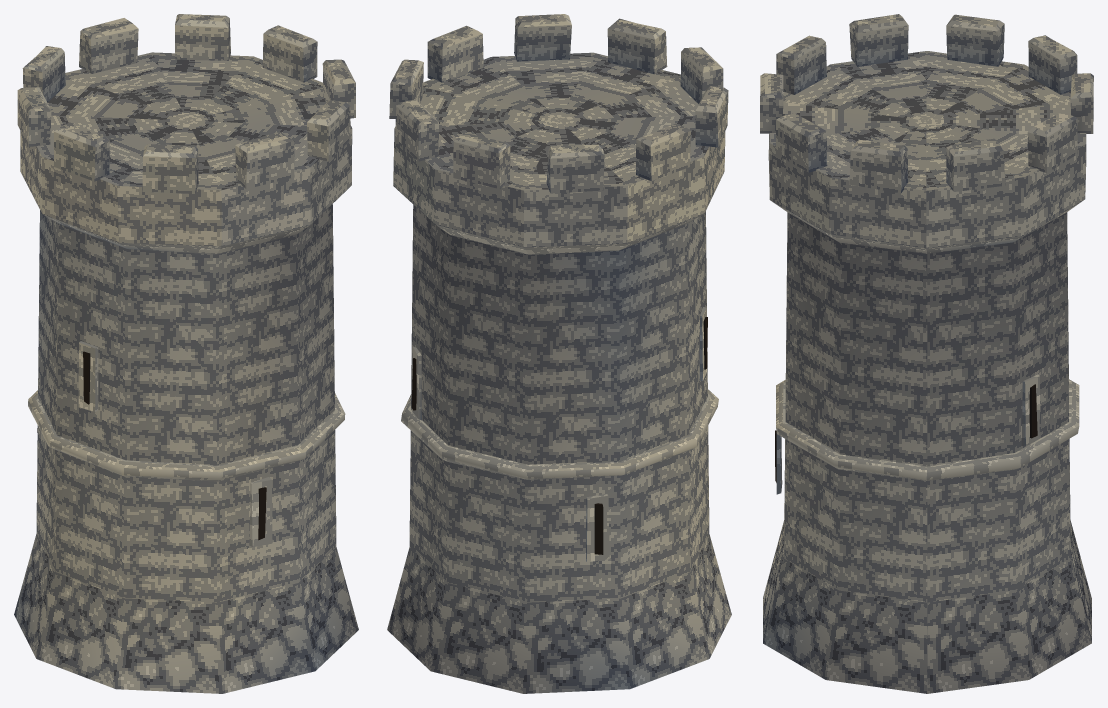
Rendered from cst.tower_round__crenellated.glb.
3 views of the same model, side by side, from view 1: azimuth 30°, elevation 25°; view 2: azimuth 150°, elevation 25°; view 3: azimuth 270°, elevation 25° (orthographic).
Visible parts, largest first — view 1: kit_drum, kit_top, kit_detail; view 2: kit_drum, kit_top, kit_detail; view 3: kit_drum, kit_top, kit_detail.
Boxes of the visible parts, bbox=[...] form: kit_drum: bbox=[14, 204, 358, 693]; kit_top: bbox=[17, 14, 355, 254]; kit_detail: bbox=[28, 341, 345, 546]; kit_drum: bbox=[387, 205, 731, 693]; kit_top: bbox=[389, 14, 728, 254]; kit_detail: bbox=[401, 307, 718, 562]; kit_drum: bbox=[763, 212, 1091, 693]; kit_top: bbox=[760, 14, 1093, 253]; kit_detail: bbox=[775, 374, 1079, 494].
Bounding box in the file's own units: 6.9 × 11.85 × 6.66.
Materials: 5 (5 with a texture image).
